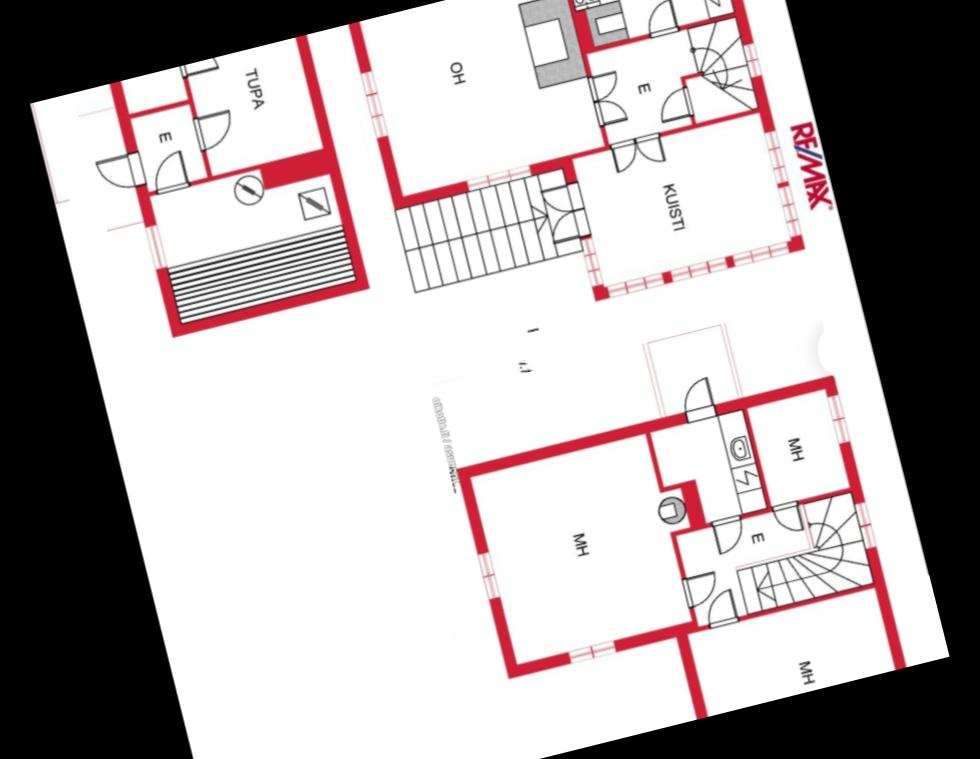door: (90, 146, 152, 197), (189, 104, 243, 158), (142, 146, 193, 197), (704, 510, 754, 558), (676, 373, 722, 424), (545, 203, 597, 248), (698, 582, 744, 631), (637, 0, 685, 46), (652, 81, 698, 126), (676, 567, 724, 609), (540, 176, 587, 218), (630, 126, 670, 172), (766, 495, 808, 537), (605, 136, 645, 178), (582, 65, 625, 104), (590, 90, 629, 128), (177, 56, 222, 82)
window: (353, 61, 395, 150), (599, 266, 674, 304), (136, 215, 175, 286), (458, 160, 538, 194), (661, 251, 735, 287), (468, 542, 507, 610), (558, 631, 625, 668), (822, 382, 857, 450), (758, 120, 793, 188), (724, 238, 798, 270), (774, 176, 809, 242), (848, 492, 884, 555), (582, 231, 609, 288), (738, 34, 766, 82)
